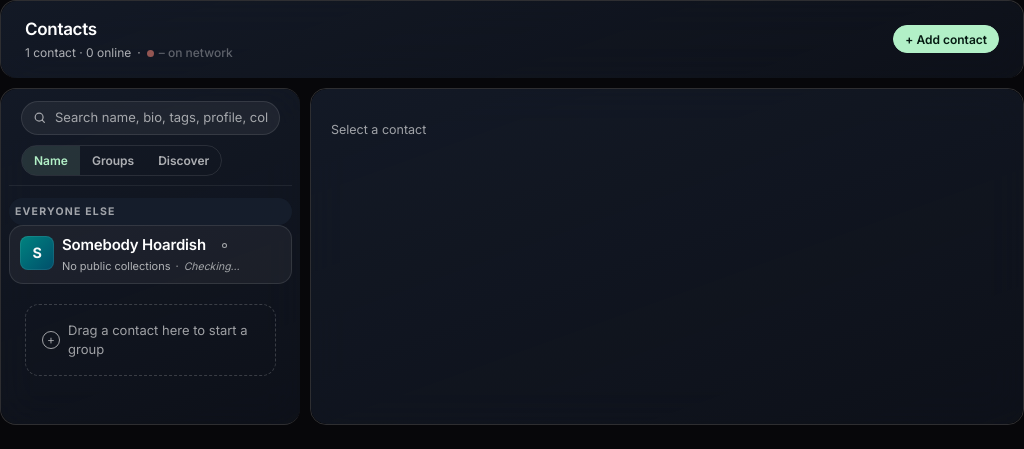
Test: QURATOR-360 F1 — the likes panel is folded into Discover; the right pane is the open contact › no likes panel anywhere, and the right pane carries the open contact detail
What coordinates should you click on to do the following:
click the option with class "contact-card"
I would click on:
 (150, 255)
Its box is x1=9 y1=226 x2=292 y2=284.
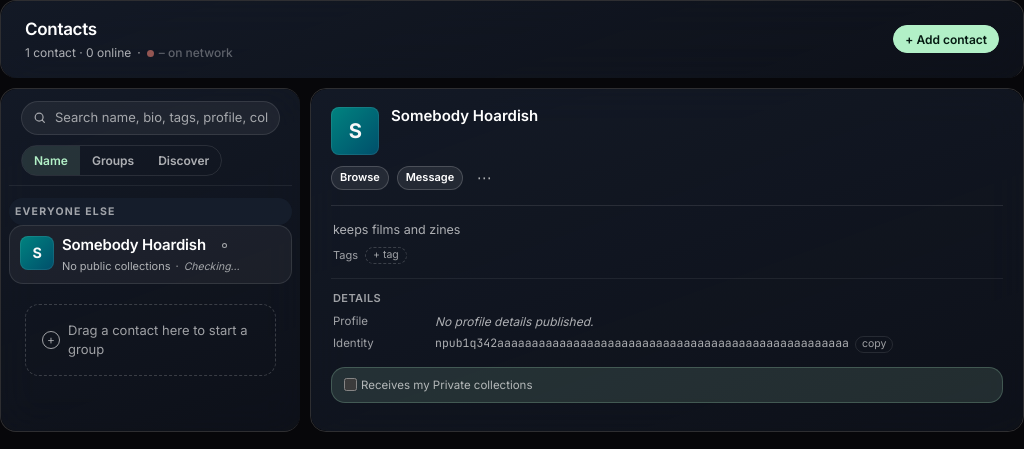
Expected: the text "keeps films and zines" is shown, x1=333 y1=222 x2=460 y2=237
